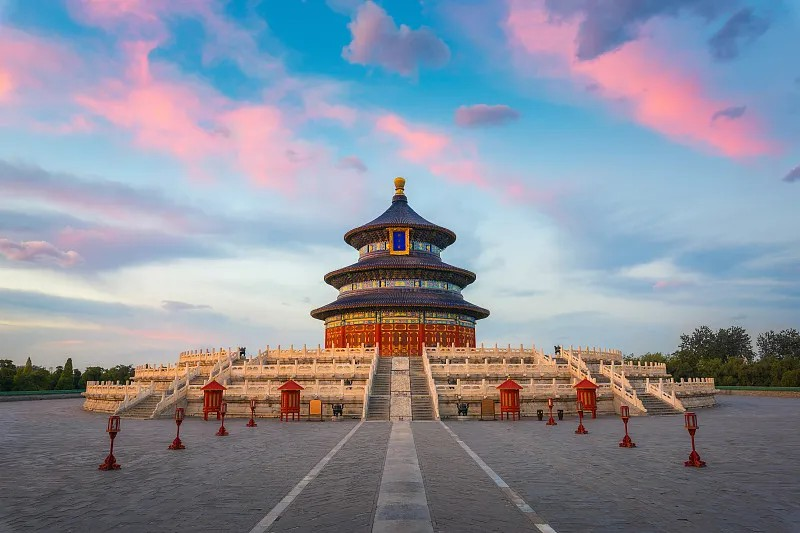Heaven: (310, 178, 490, 359)
